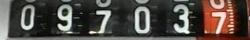digits: (172, 4, 190, 32), (133, 5, 150, 32), (56, 4, 72, 30), (94, 10, 110, 36), (20, 4, 35, 29), (211, 11, 224, 38)
